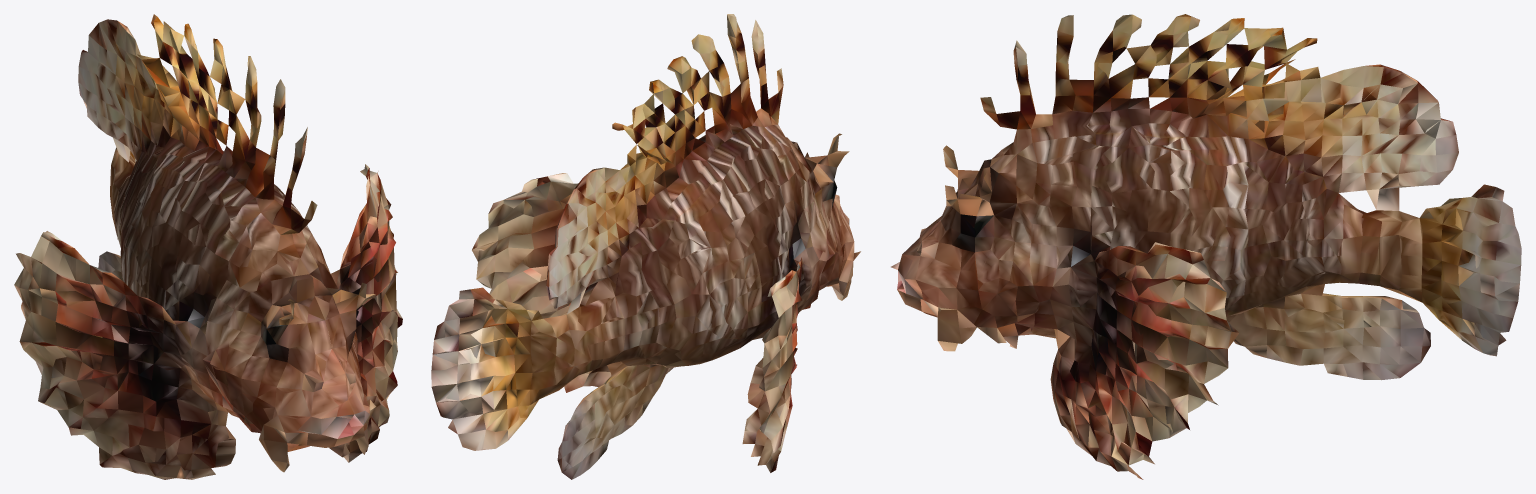
The model's file is lionfish.glb.
The picture shows the model from 3 angles, left to right: view 1: azimuth 30°, elevation 25°; view 2: azimuth 150°, elevation 25°; view 3: azimuth 270°, elevation 25°; orthographic projection. The views are drawn at different scales.
Size of the model in its own units: 0.6109 by 0.7162 by 0.9959.
Materials: 1 (1 with a texture image).
